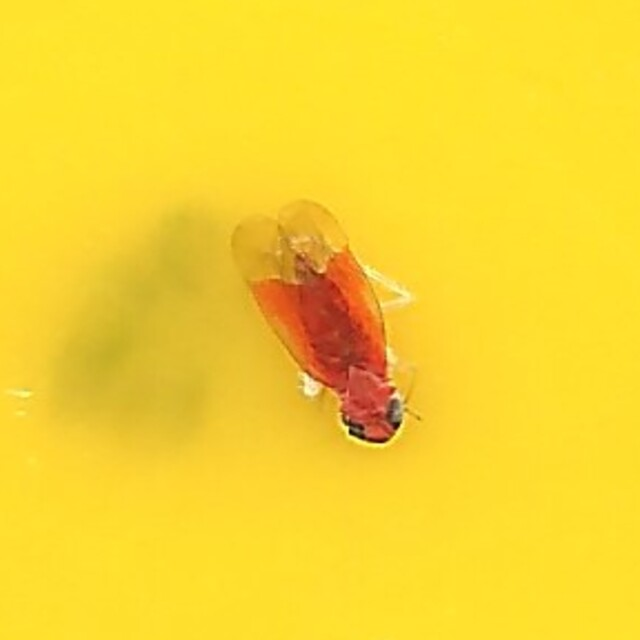Hemiptera: (222, 191, 418, 449)
